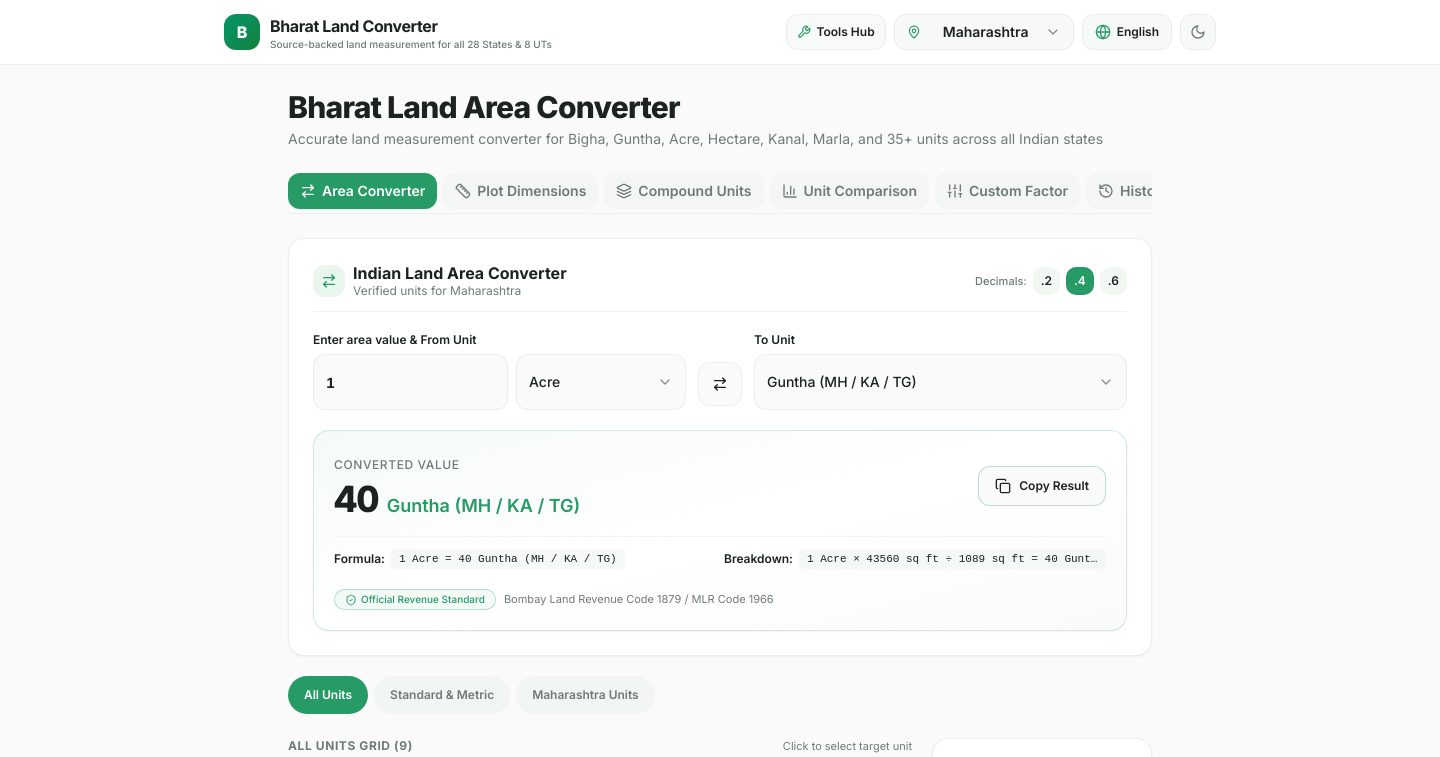
Test: Bharat Land Converter — Functional UI & Workflow Tests › 10. Language switch cycles UI between English, Hindi, and Marathi
Check: the text "English" is shown, box [1117,24,1159,40]
1st click: switches to Hindi
Click the button with aria-label "Switch language" at (1127, 32), box [1082,14,1172,50]
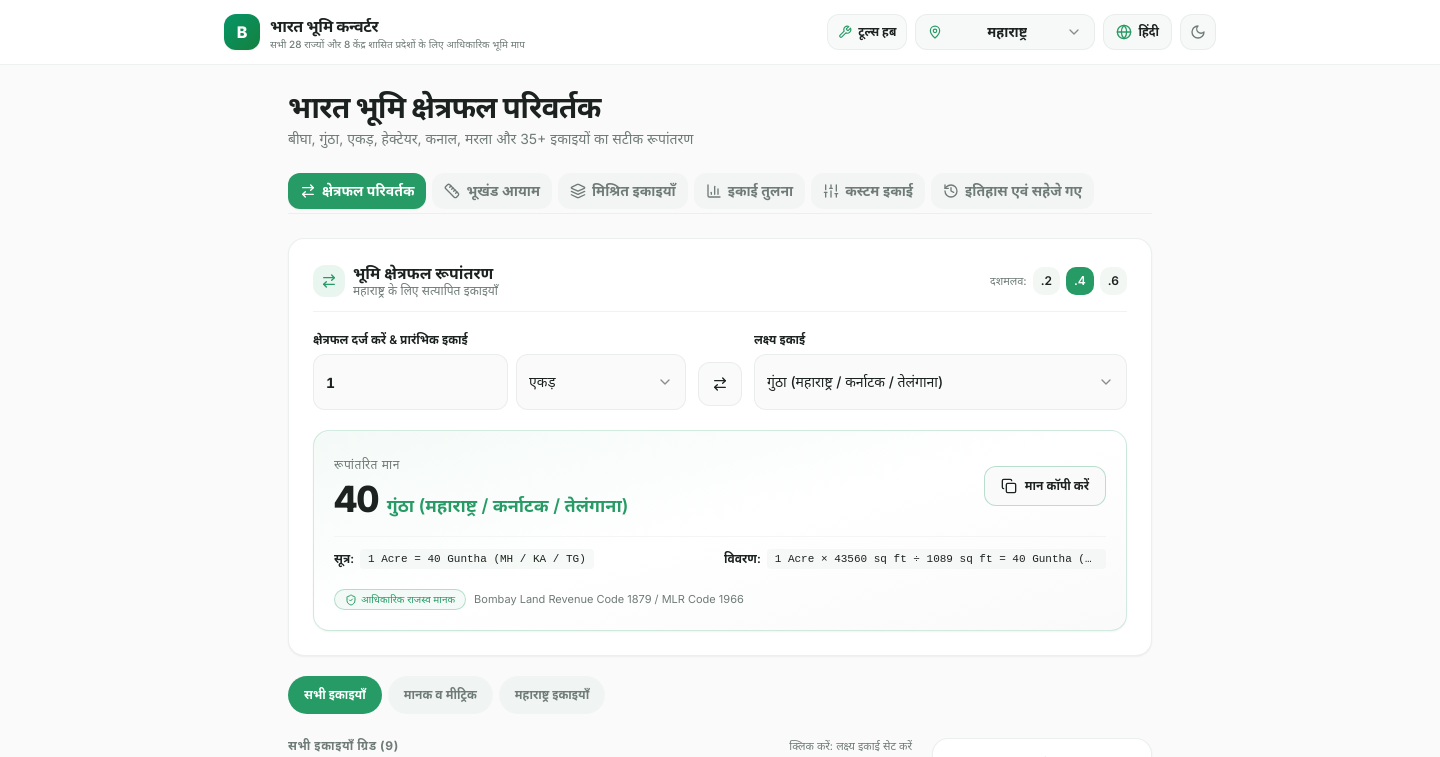
Check: the heading "भूमि क्षेत्रफल रूपांतरण" is shown, box [353,263,498,283]
Check: the text "हिंदी" is shown, box [1138,24,1159,40]
2nd click: switches to Marathi
Click the button named "Switch language" at (1138, 32), box [1103,14,1172,50]
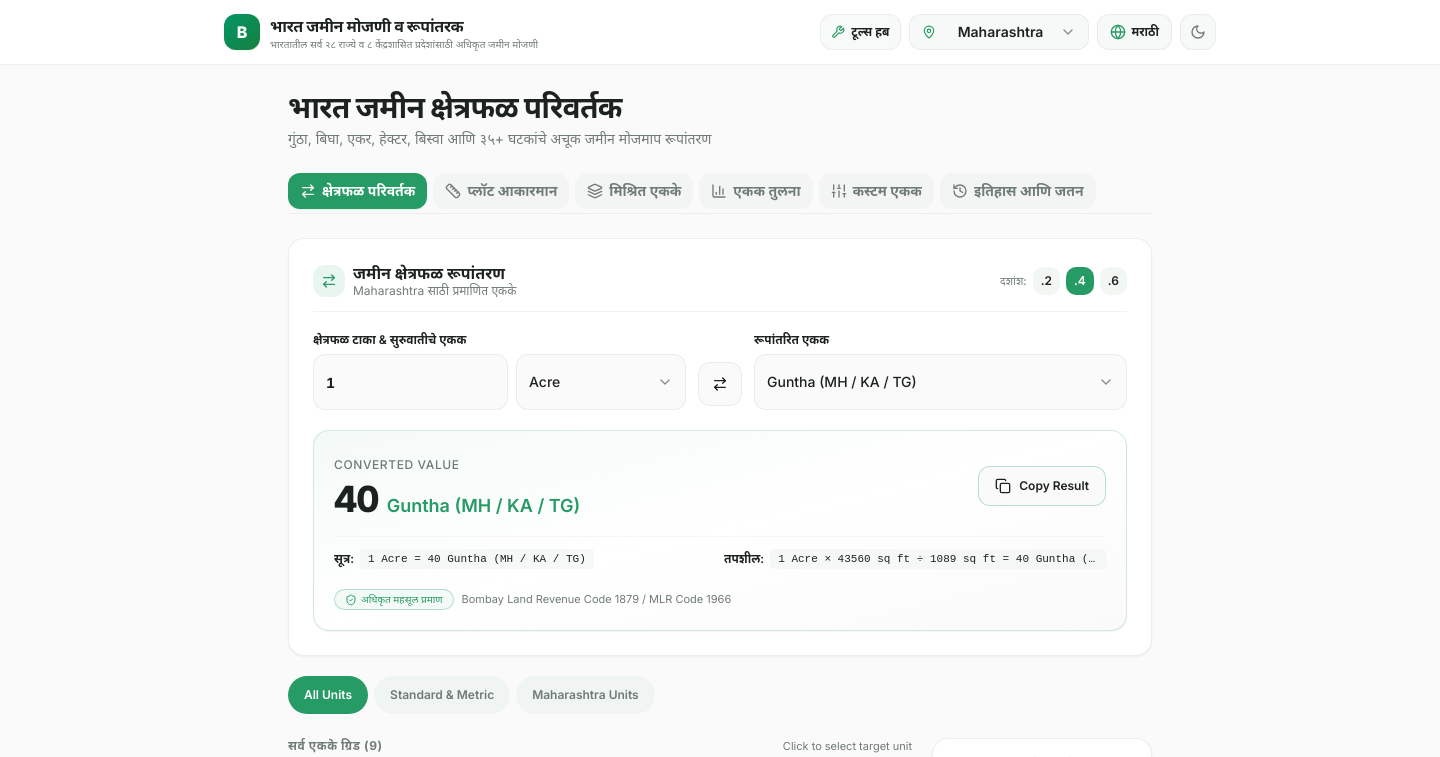
Check: the heading "जमीन क्षेत्रफळ रूपांतरण" is shown, box [353,263,516,283]
Check: the text "मराठी" is shown, box [1132,24,1159,40]
3rd click: switches back to English
Click the button with aria-label "Switch language" at (1134, 32), box [1096,14,1172,50]
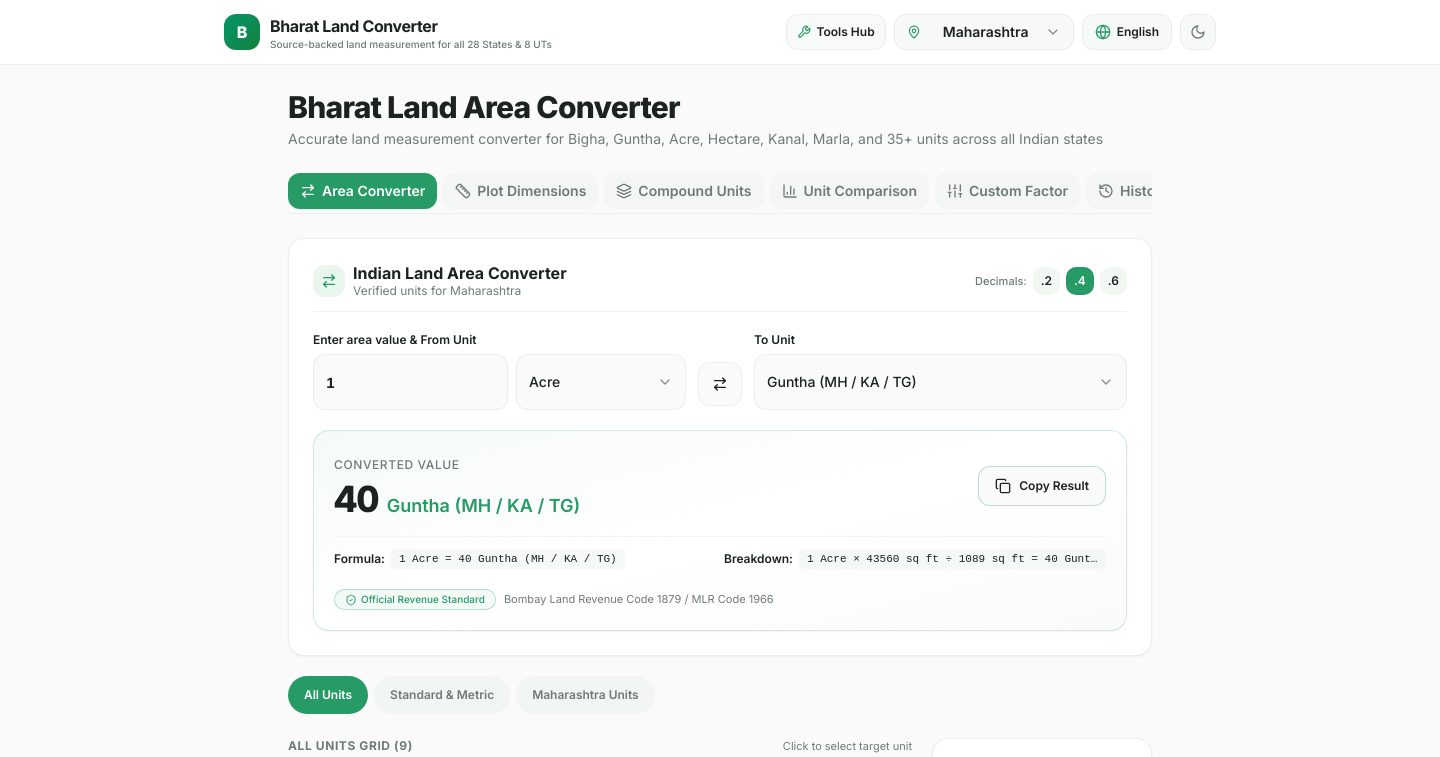
Check: the heading "Indian Land Area Converter" is shown, box [353,263,567,283]
Check: the text "English" is shown, box [1117,24,1159,40]
